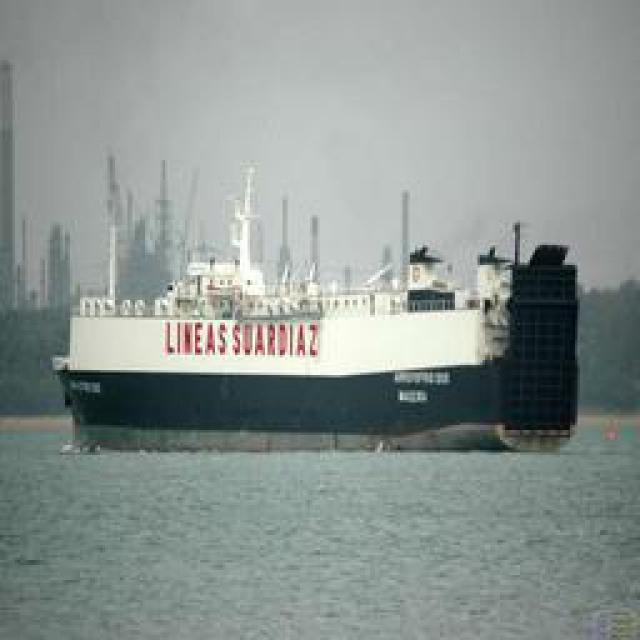Ship: (59, 154, 552, 437)
